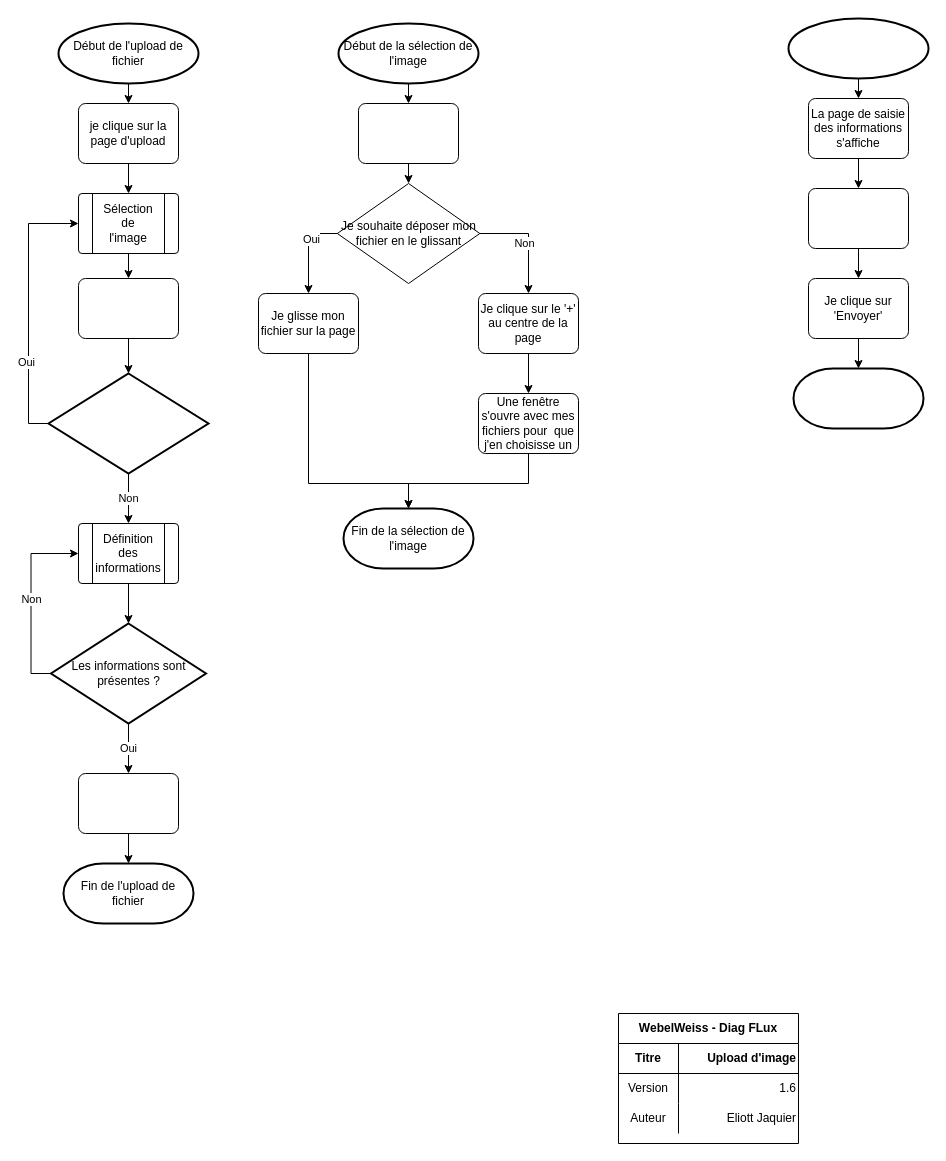
Image size: 946x1161. Some labels were removed from this diagram. The shapes that lost their labels are listed below. From the top down, each one's centre as x and y in pixels, then its label:
the point at 858,48: Début de la définition des informations
the point at 408,133: La page de sélection de l'image s'affiche
the point at 858,218: J'entre les données métas de la photo
the point at 128,308: Le fichier est envoyé automatiquement au site
the point at 858,398: Fin de la définition des informations
the point at 128,423: L'image a-t-elle déjà été uploadée une fois ?
the point at 128,803: Mon profile s'affiche avec la nouvelle image
